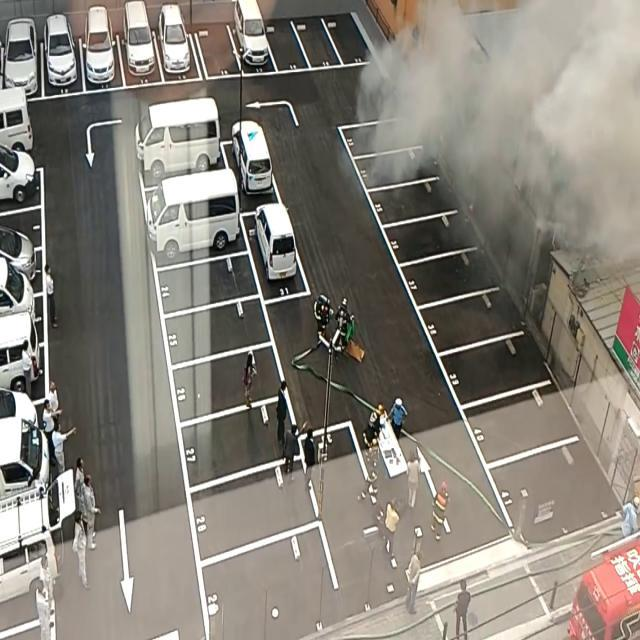Smoke: (359, 0, 640, 285)
